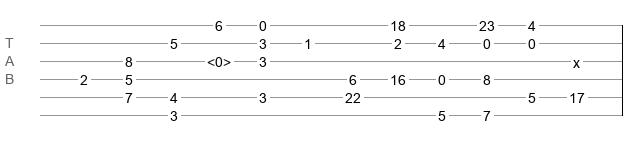0: (259, 18, 267, 28), (438, 72, 446, 82), (483, 36, 491, 46), (528, 36, 536, 46)
1: (304, 36, 312, 46)
16: (390, 72, 406, 82)
17: (569, 90, 585, 100)
18: (390, 18, 406, 28)
2: (80, 72, 88, 82), (394, 36, 402, 46)
22: (345, 90, 361, 100)
23: (479, 18, 495, 28)
3: (170, 108, 178, 118), (259, 36, 267, 46), (259, 54, 267, 64), (259, 90, 267, 100)
4: (170, 90, 178, 100), (438, 36, 446, 46), (528, 18, 536, 28)
5: (125, 72, 133, 82), (170, 36, 178, 46), (438, 108, 446, 118), (528, 90, 536, 100)
6: (215, 18, 223, 28), (349, 72, 357, 82)
7: (125, 90, 133, 100), (483, 108, 491, 118)
8: (125, 54, 133, 64), (483, 72, 491, 82)
harmonic: (207, 54, 231, 64)
x: (573, 55, 580, 63)
